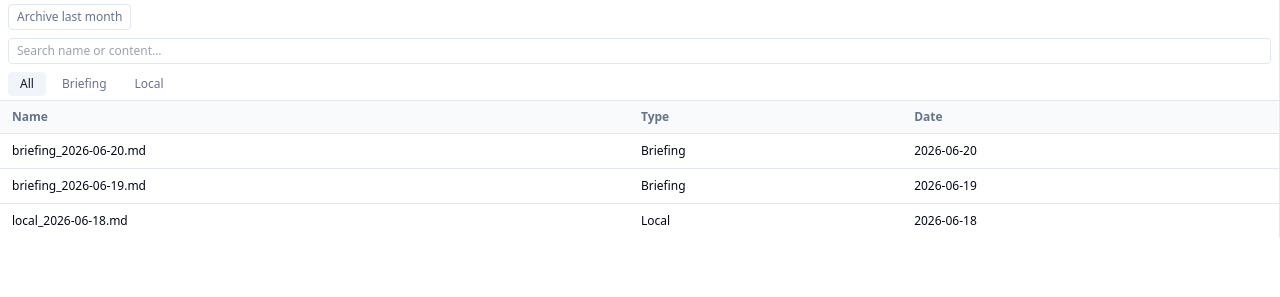
Test: BriefingDashboard › opens side panel when the row itself is clicked
This screenshot has width=1280, height=297.
Click the row with test id "briefing-row-briefing_2026-06-20.md": click(640, 151) [0,134,1279,168]
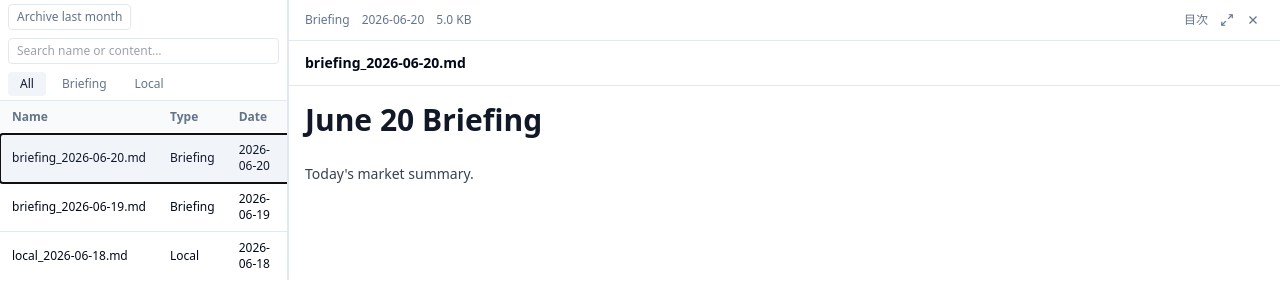
Check: the element with test id "briefing-panel" is shown
Check: the element with test id "briefing-content" shows "June 20 Briefing", box [305,99,542,140]
